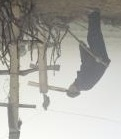person: (66, 8, 111, 97)
